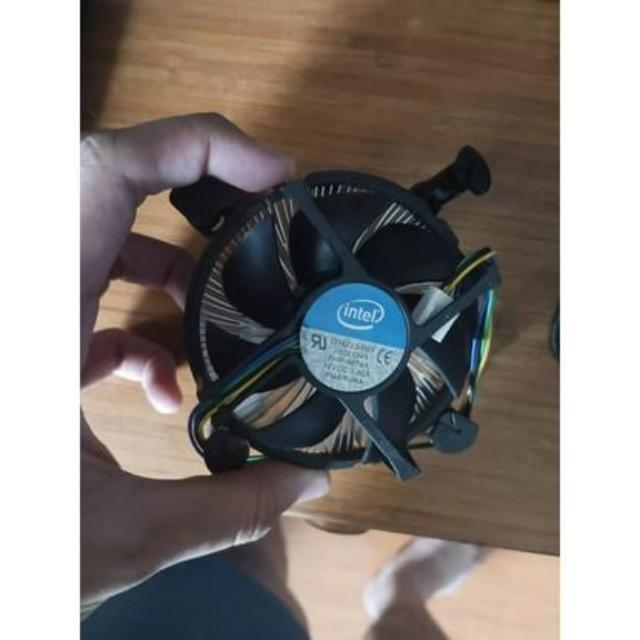CPU_Fan: (166, 156, 484, 470)
